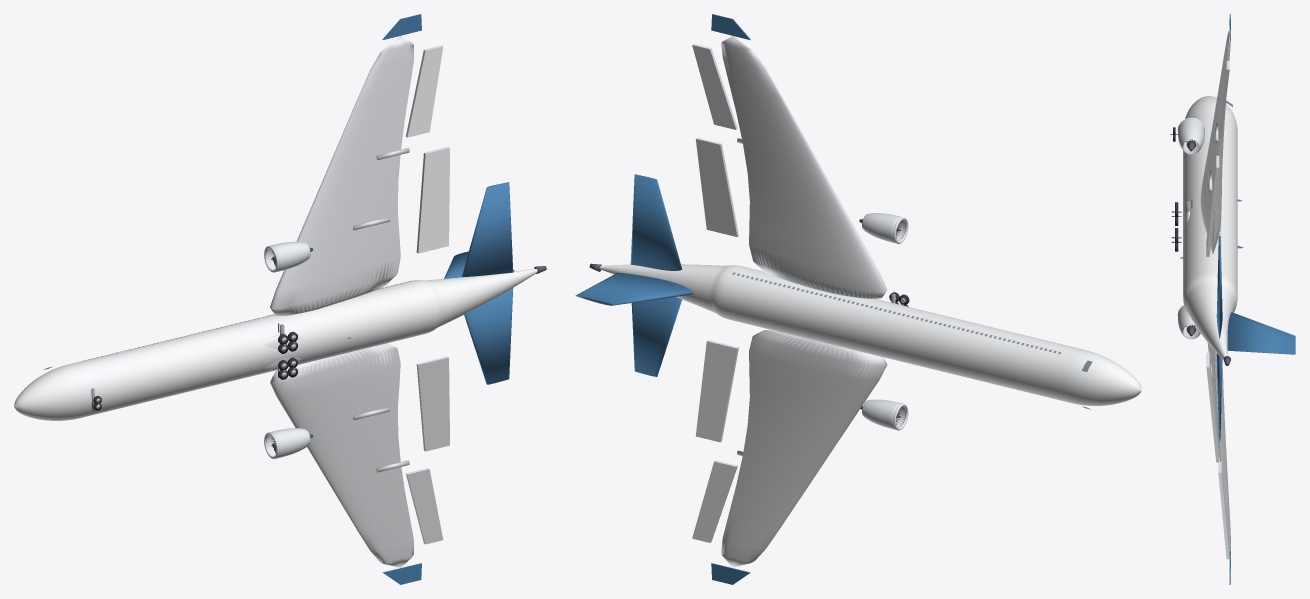
3 renders of one model, left to right at view 1: azimuth 30°, elevation 25°; view 2: azimuth 150°, elevation 25°; view 3: azimuth 270°, elevation 25°, orthographic.
Visible parts, largest first — view 1: Fuselage, Wing_R, Wing_L, HStab_R, HStab_L, Flap_R, Flap_L, Aileron_R, Aileron_L, Nacelle_1_0, Nacelle_-1_0; view 2: Fuselage, Wing_L, Wing_R, HStab_R, Flap_L, HStab_L, Flap_R, Fin, Aileron_L, Aileron_R, Nacelle_1_0, Nacelle_-1_0; view 3: Fuselage, Wing_R, Fin, Wing_L, Nacelle_1_0, Flap_L, Flap_R, HStab_R, Aileron_L, Aileron_R, Nacelle_-1_0, HStab_L.
Part boxes in pixels (<box>): Fuselage: <box>14,269,537,420</box>; Wing_R: <box>270,36,413,315</box>; Wing_L: <box>270,343,413,567</box>; HStab_R: <box>462,182,513,277</box>; HStab_L: <box>464,288,513,384</box>; Flap_R: <box>416,147,449,253</box>; Flap_L: <box>416,356,449,451</box>; Aileron_R: <box>406,45,443,137</box>; Aileron_L: <box>406,468,443,544</box>; Nacelle_1_0: <box>267,241,310,271</box>; Nacelle_-1_0: <box>267,428,310,458</box>; Fuselage: <box>600,264,1141,405</box>; Wing_L: <box>721,330,887,567</box>; Wing_R: <box>721,36,887,298</box>; HStab_R: <box>630,174,682,270</box>; Flap_L: <box>695,340,738,442</box>; HStab_L: <box>631,297,681,376</box>; Flap_R: <box>695,137,738,237</box>; Fin: <box>575,272,693,305</box>; Aileron_L: <box>692,460,737,542</box>; Aileron_R: <box>692,44,737,129</box>; Nacelle_1_0: <box>862,213,907,243</box>; Nacelle_-1_0: <box>862,399,907,429</box>; Fuselage: <box>1183,96,1237,359</box>; Wing_R: <box>1200,31,1230,254</box>; Fin: <box>1227,312,1295,354</box>; Wing_L: <box>1207,343,1230,557</box>; Nacelle_1_0: <box>1178,118,1204,154</box>; Flap_L: <box>1206,352,1219,462</box>; Flap_R: <box>1206,155,1219,256</box>; HStab_R: <box>1216,236,1222,338</box>; Aileron_L: <box>1218,462,1229,559</box>; Aileron_R: <box>1218,61,1229,138</box>; Nacelle_-1_0: <box>1178,306,1200,339</box>; HStab_L: <box>1217,353,1222,441</box>.
Bounding box in the file's own units: 64.08 × 64.01 × 12.96.
